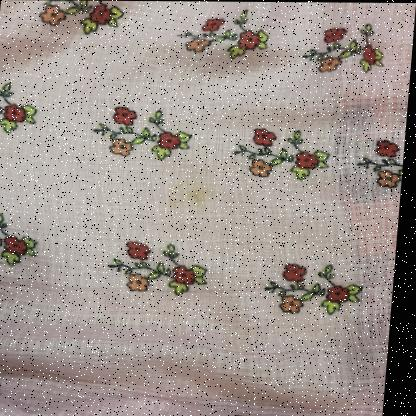spot: (168, 179, 220, 211)
